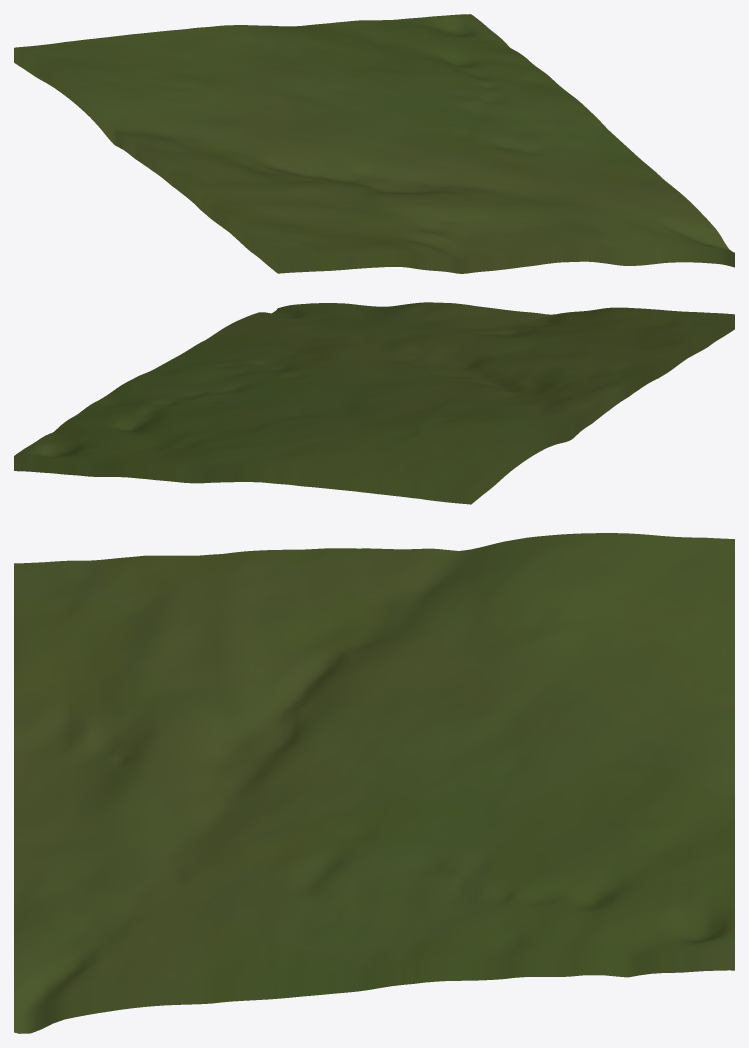
File: terrain_6_-17.glb
3 renders of one model, top to bottom at view 1: azimuth 30°, elevation 25°; view 2: azimuth 150°, elevation 25°; view 3: azimuth 270°, elevation 25°, orthographic. The views are drawn at different scales.
Parts seen in each view (by area): view 1: terrain_6_-17; view 2: terrain_6_-17; view 3: terrain_6_-17.
Part boxes in pixels (bbox=[...]): terrain_6_-17: bbox=[14, 14, 734, 273]; terrain_6_-17: bbox=[14, 302, 734, 504]; terrain_6_-17: bbox=[14, 533, 734, 1033].
Bounding box in the file's own units: 256 × 76.8 × 256.
